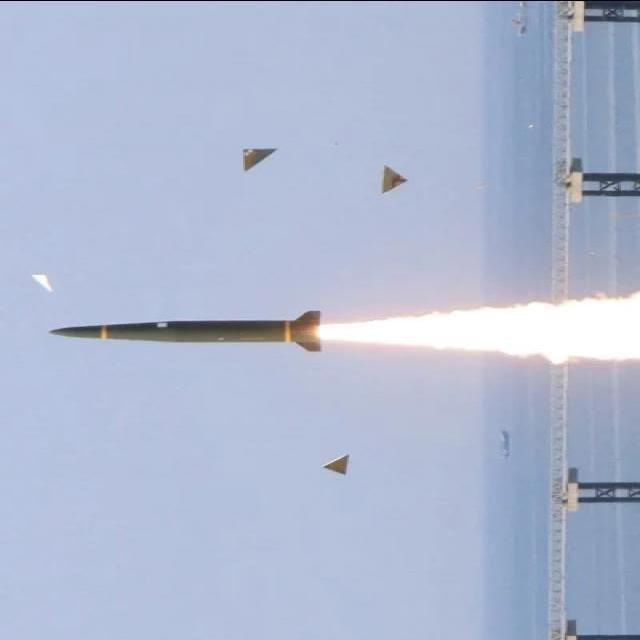missile: (52, 307, 324, 352)
